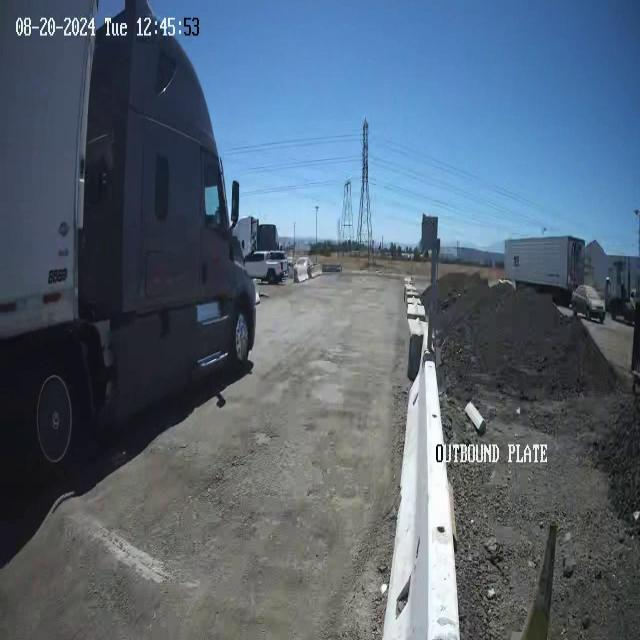TRUCK_CONTAINER: (1, 1, 257, 475)
